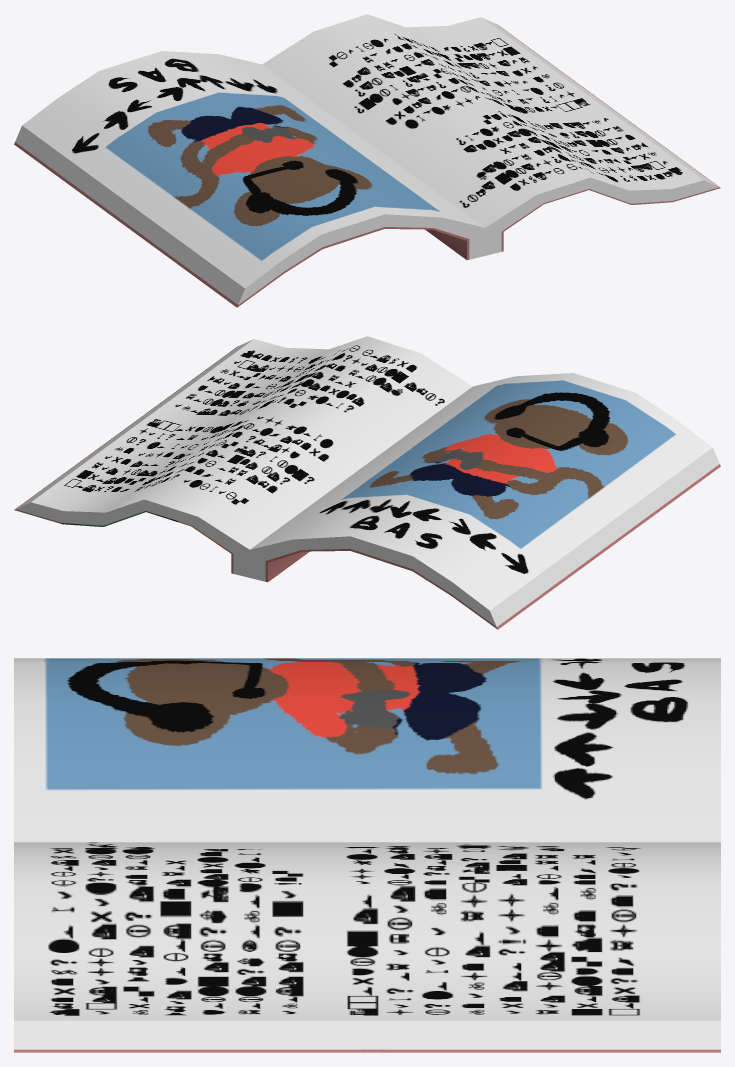
File: magazine.fbx
3 renders of one model, top to bottom at view 1: azimuth 30°, elevation 25°; view 2: azimuth 150°, elevation 25°; view 3: azimuth 270°, elevation 25°, orthographic. The views are drawn at different scales.
Visible parts, largest first — view 1: magazine; view 2: magazine; view 3: magazine.
Part boxes in pixels (left/top/right/bottom): magazine: left=14, top=14, right=720, bottom=307; magazine: left=14, top=336, right=720, bottom=629; magazine: left=14, top=658, right=720, bottom=1052.
Size of the model in its own units: 197 by 25.7 by 157.
Materials: 1 (1 with a texture image).
